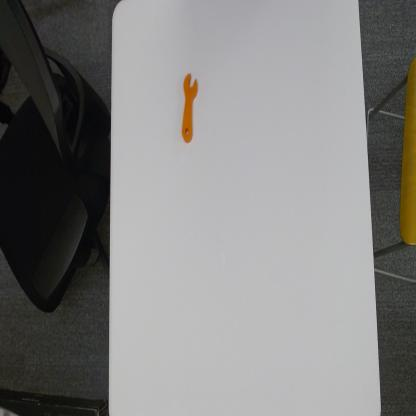Screwdriver: (179, 65, 201, 151)
